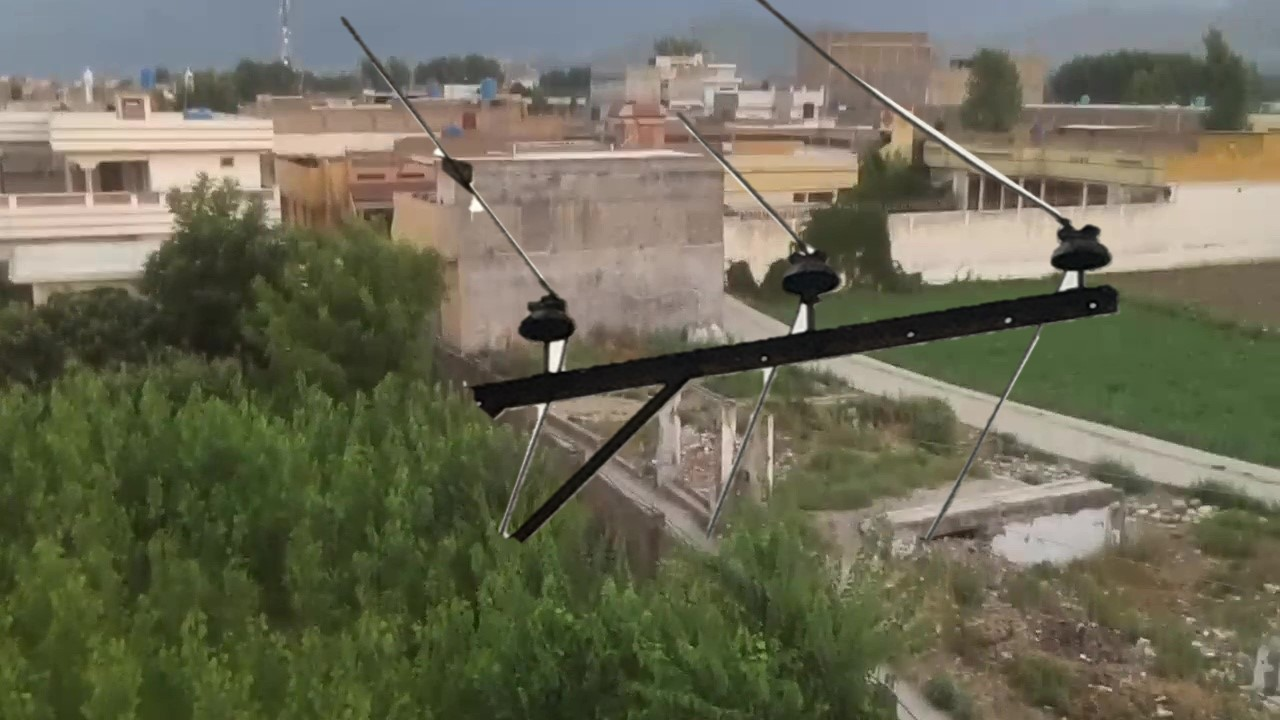insulator_pin: (776, 237, 847, 301), (1048, 218, 1119, 278), (515, 293, 580, 341)
